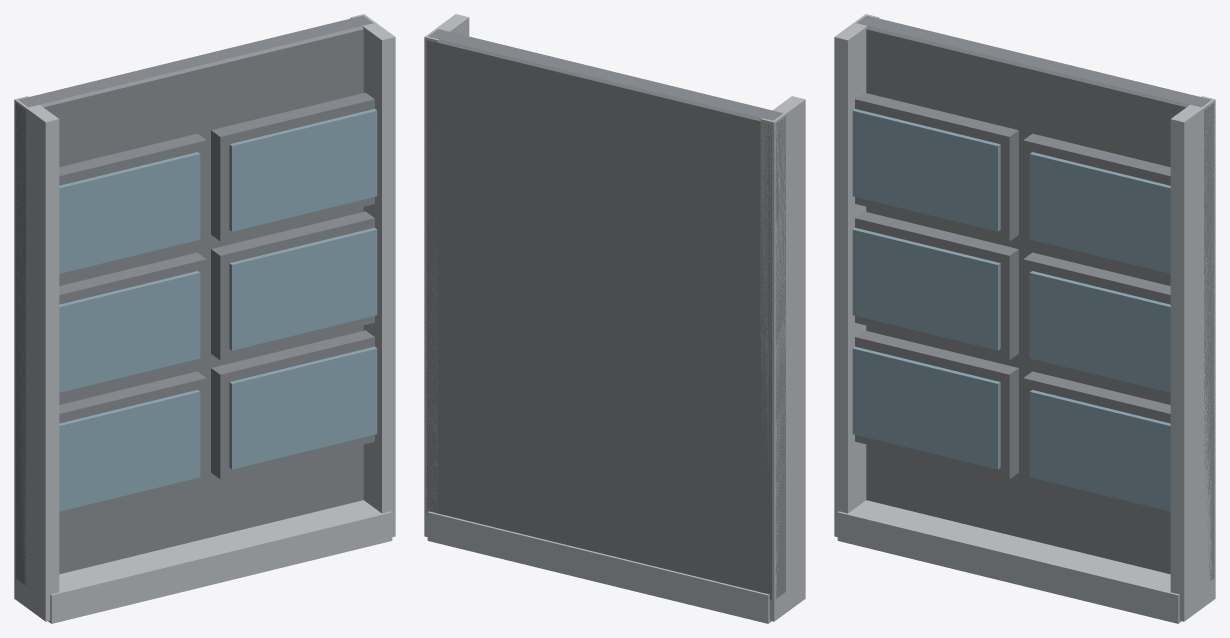
The model's file is P_screen_wall.fbx.
3 renders of one model, left to right at view 1: azimuth 30°, elevation 25°; view 2: azimuth 150°, elevation 25°; view 3: azimuth 330°, elevation 25°, orthographic.
Parts seen in each view (by area): view 1: P_screen_wall; view 2: P_screen_wall; view 3: P_screen_wall.
Boxes of the visible parts, x1,y1,x2,y2 form: P_screen_wall: (14, 14, 395, 623); P_screen_wall: (424, 14, 805, 623); P_screen_wall: (834, 14, 1215, 623).
Size of the model in its own units: 1.54 by 2.11 by 0.26.
